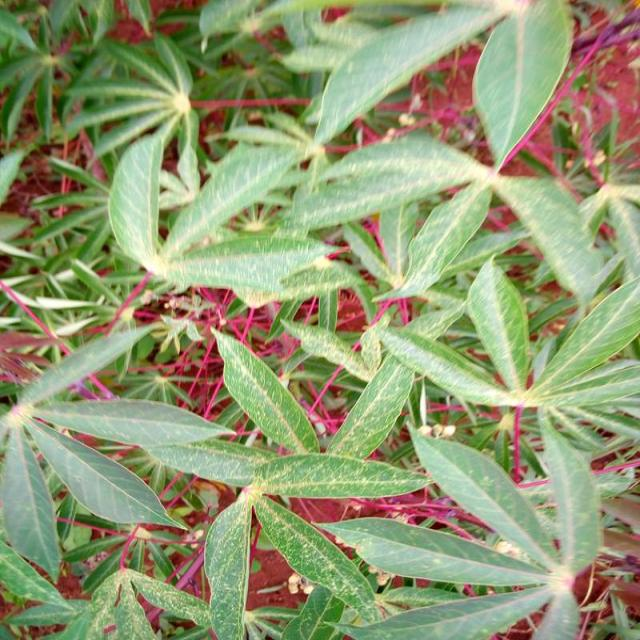cassava leaf: (1, 0, 638, 639), (471, 0, 574, 172)
